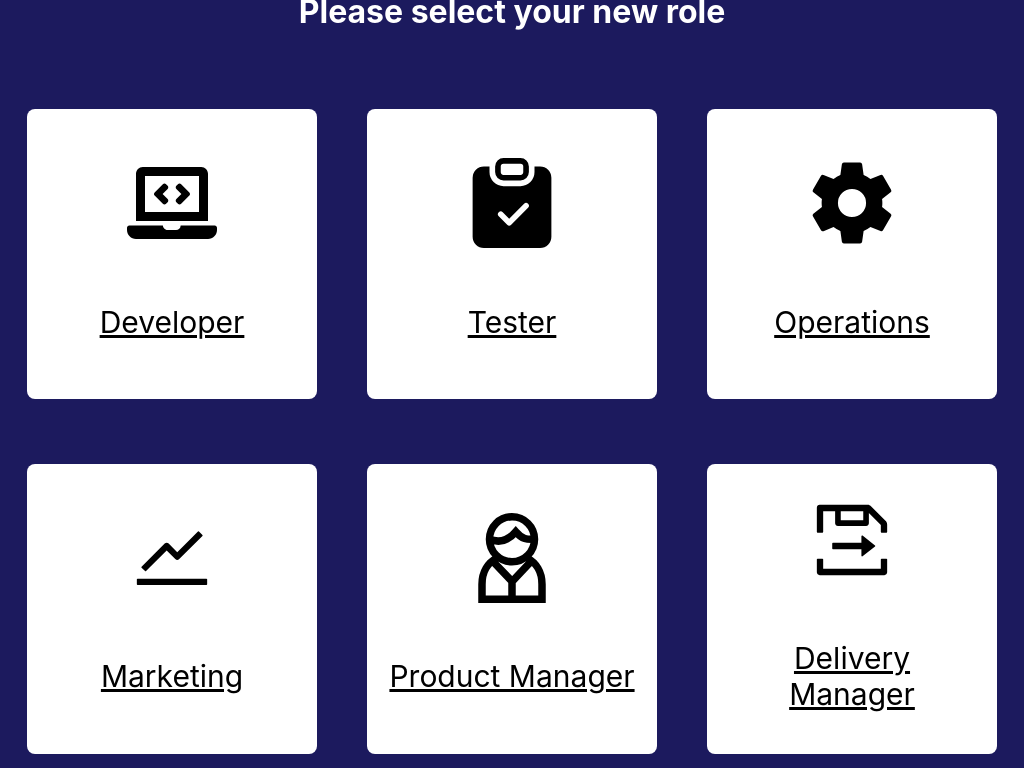
Test case: Marketing page loads on click › should navigate to the Marketing Page on Marketing card click
The width and height of the screenshot is (1024, 768).
(page scrolled)
What coordinates should you click on to do the following:
click the link "Marketing"
I would click on:
 (172, 558)
Its box is [27,464,317,754].
(page scrolled)
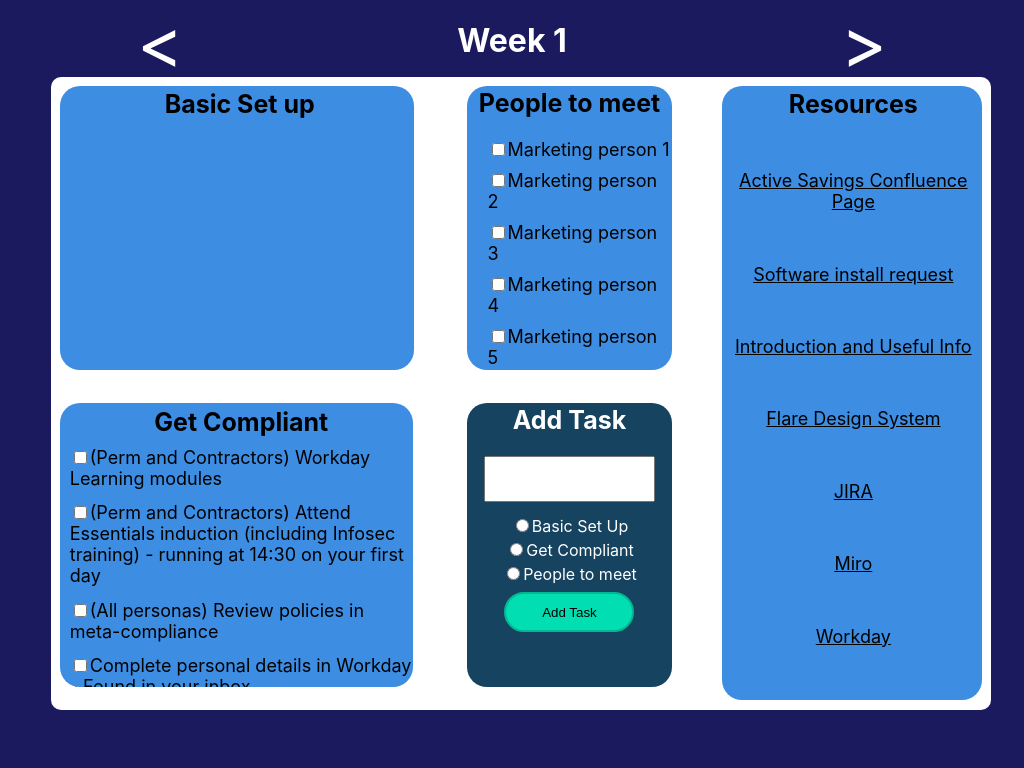
Expected: the heading "Week 1" is shown, [457,21,567,55]
